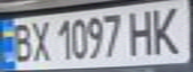0: (69, 15, 87, 60)
1: (51, 16, 72, 61)
7: (100, 10, 127, 58)
9: (87, 12, 106, 60)
B: (6, 19, 36, 63)
H: (124, 4, 160, 56)
K: (145, 2, 187, 55)
X: (27, 17, 54, 63)
